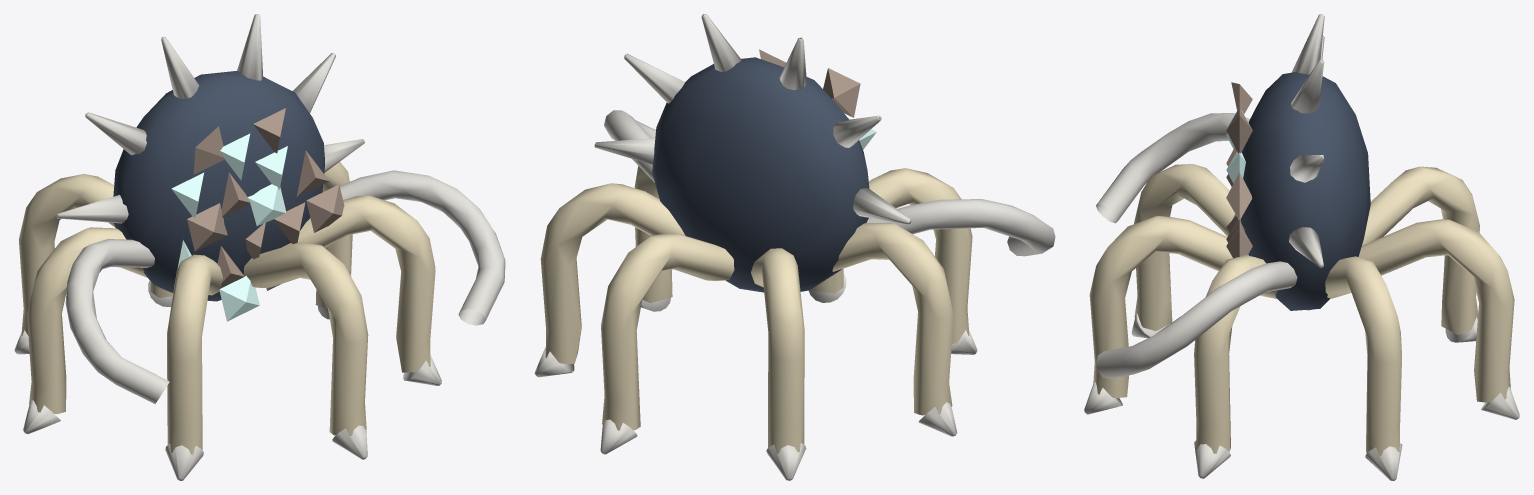
Rendered from bio_crown_stalker_03_far.glb.
The picture shows the model from 3 angles, left to right: view 1: azimuth 30°, elevation 25°; view 2: azimuth 150°, elevation 25°; view 3: azimuth 270°, elevation 25°; orthographic projection. The views are drawn at different scales.
Visible parts, largest first — view 1: Faceted crown substrate, Crooked support.005, Crooked support.006, Compound lens facet.001, Crooked support.004, Scythe sensory limb.001, Crooked support.003, Scythe sensory limb, Crown radiating blade, Crooked support.002, Compound lens facet, Crooked support (+4 smaller); view 2: Faceted crown substrate, Crooked support.001, Crooked support, Crooked support.003, Crooked support.002, Crown radiating blade, Crooked support.004, Scythe sensory limb, Compound lens facet.001, Scythe sensory limb.001, Crooked support.006, Contact spur.002 (+3 smaller); view 3: Faceted crown substrate, Crooked support.001, Crooked support.005, Crooked support, Crooked support.002, Crooked support.004, Scythe sensory limb.001, Crooked support.006, Scythe sensory limb, Crown radiating blade, Compound lens facet.001, Contact spur.006 (+4 smaller).
Boxes of the visible parts, x1,y1,x2,y2 form: Faceted crown substrate: [113, 70, 324, 301]; Crooked support.005: [243, 242, 368, 435]; Crooked support.006: [297, 195, 435, 372]; Compound lens facet.001: [187, 108, 344, 292]; Crooked support.004: [167, 254, 222, 454]; Scythe sensory limb.001: [339, 170, 505, 325]; Crooked support.003: [27, 227, 147, 414]; Scythe sensory limb: [65, 239, 169, 403]; Crown radiating blade: [56, 14, 364, 223]; Crooked support.002: [19, 174, 115, 335]; Compound lens facet: [171, 133, 287, 321]; Crooked support: [315, 162, 352, 308]; Faceted crown substrate: [652, 57, 869, 292]; Crooked support.001: [601, 233, 734, 430]; Crooked support: [540, 183, 685, 364]; Crooked support.003: [832, 223, 953, 415]; Crooked support.002: [751, 248, 804, 453]; Crown radiating blade: [594, 14, 911, 224]; Crooked support.004: [869, 168, 972, 343]; Scythe sensory limb: [866, 199, 1055, 256]; Compound lens facet.001: [759, 49, 860, 117]; Scythe sensory limb.001: [604, 110, 655, 182]; Crooked support.006: [634, 166, 672, 303]; Contact spur.002: [766, 443, 806, 480]; Faceted crown substrate: [1240, 72, 1370, 310]; Crooked support.001: [1358, 219, 1514, 402]; Crooked support.005: [1089, 216, 1248, 398]; Crooked support: [1325, 256, 1401, 455]; Crooked support.002: [1362, 166, 1479, 334]; Crooked support.004: [1134, 164, 1234, 330]; Scythe sensory limb.001: [1096, 261, 1297, 378]; Crooked support.006: [1194, 255, 1277, 453]; Scythe sensory limb: [1096, 113, 1249, 223]; Crown radiating blade: [1289, 14, 1324, 267]; Compound lens facet.001: [1226, 82, 1252, 258]; Contact spur.006: [1194, 440, 1230, 478].
Bounding box in the file's own units: 2.59 × 2.11 × 2.32.
